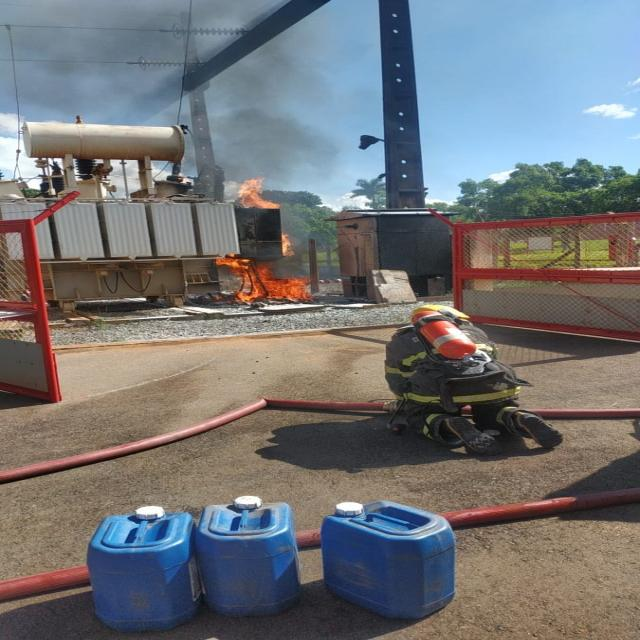fire: (223, 183, 310, 303)
smoke: (8, 2, 313, 114), (186, 116, 342, 173)
